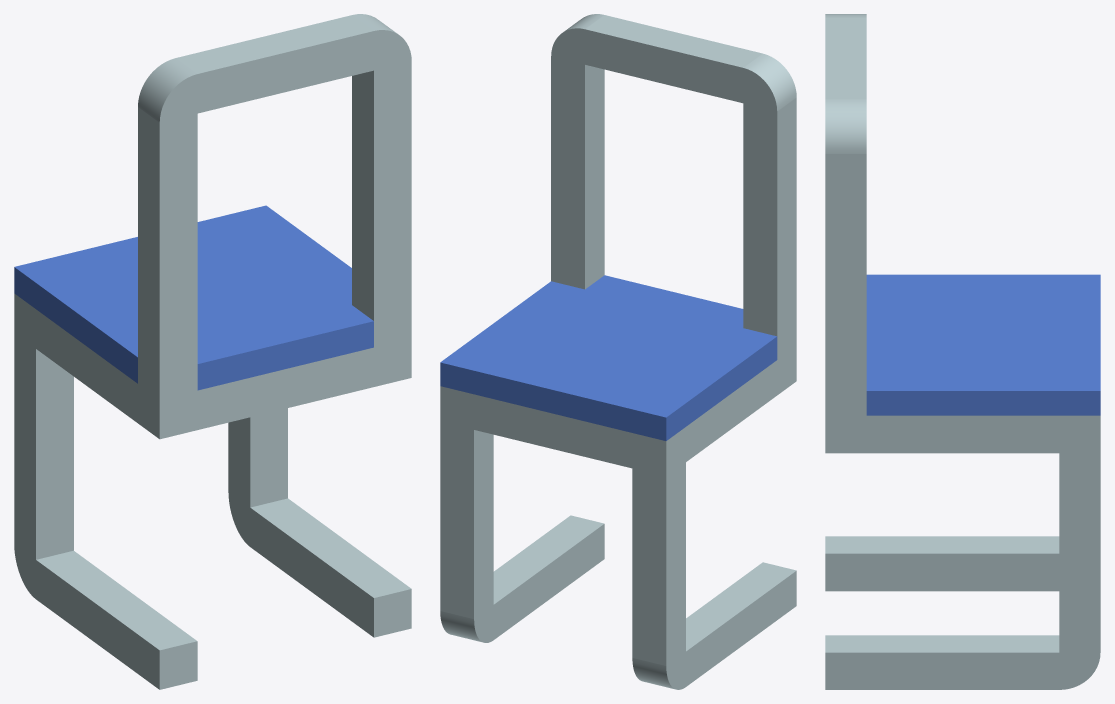
The model's file is Chair Modern Frame Cush.glb.
The picture shows the model from 3 angles, left to right: view 1: azimuth 30°, elevation 25°; view 2: azimuth 150°, elevation 25°; view 3: azimuth 270°, elevation 25°; orthographic projection. The views are drawn at different scales.
Parts seen in each view (by area): view 1: chairModernFrameCushion; view 2: chairModernFrameCushion; view 3: chairModernFrameCushion.
Part boxes in pixels (<box>): chairModernFrameCushion: <box>14,14,411,689</box>; chairModernFrameCushion: <box>440,14,796,689</box>; chairModernFrameCushion: <box>825,14,1100,689</box>.
Size of the model in its own units: 0.2 by 0.46 by 0.2.
